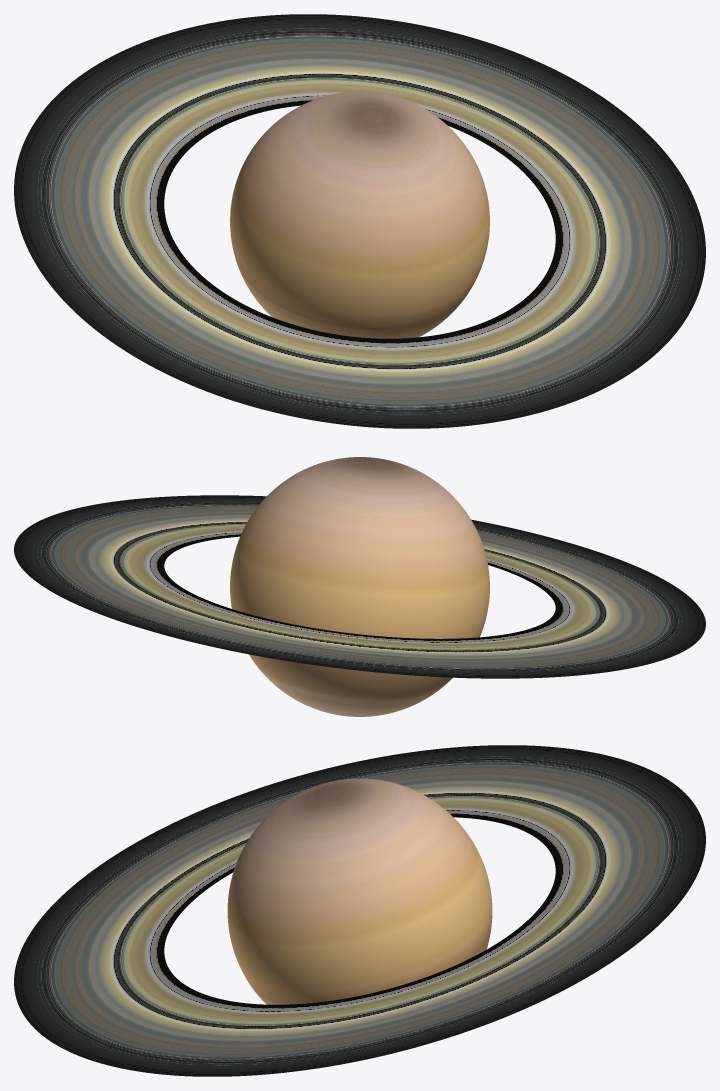
3 renders of one model, top to bottom at view 1: azimuth 30°, elevation 25°; view 2: azimuth 150°, elevation 25°; view 3: azimuth 270°, elevation 25°, orthographic.
Visible parts, largest first — view 1: node_id64_3, node_id62_0; view 2: node_id64_3, node_id62_0; view 3: node_id64_3, node_id62_0.
Boxes of the visible parts, x1=… form: node_id64_3: x1=14, y1=14, x2=705, y2=428; node_id62_0: x1=230, y1=91, x2=489, y2=338; node_id64_3: x1=14, y1=495, x2=705, y2=678; node_id62_0: x1=230, y1=457, x2=489, y2=716; node_id64_3: x1=14, y1=745, x2=705, y2=1076; node_id62_0: x1=227, y1=778, x2=492, y2=1004.
Bounding box in the file's own units: 1.1 × 0.4116 × 1.08.
2 materials, 2 textured.
